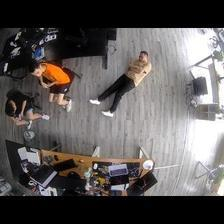fall: (89, 50, 152, 118)
normal: (32, 63, 74, 110), (4, 97, 47, 129)
